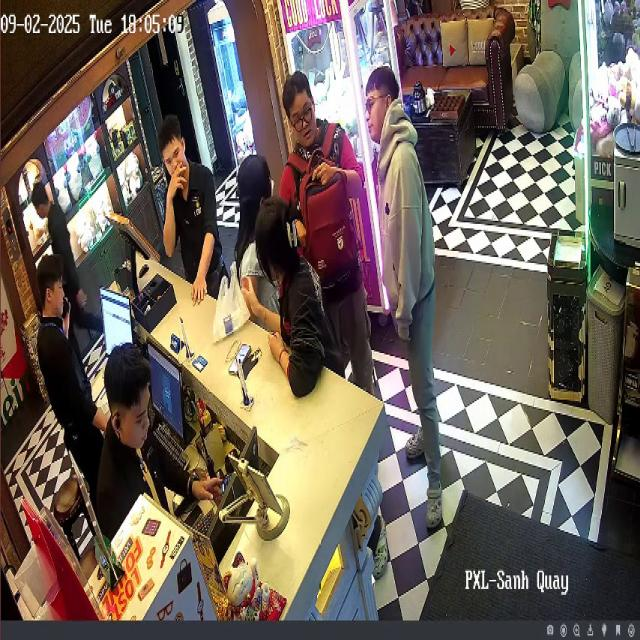khach: (364, 57, 453, 534), (281, 38, 366, 420), (244, 203, 334, 414), (230, 133, 283, 360)
nhan vien: (144, 85, 234, 318), (26, 249, 110, 472), (30, 164, 115, 379), (95, 332, 167, 539)
